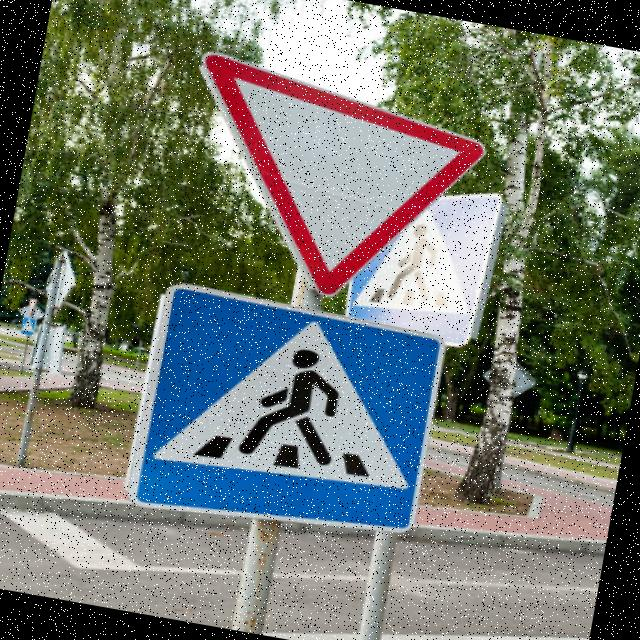give_way: (166, 40, 479, 308)
